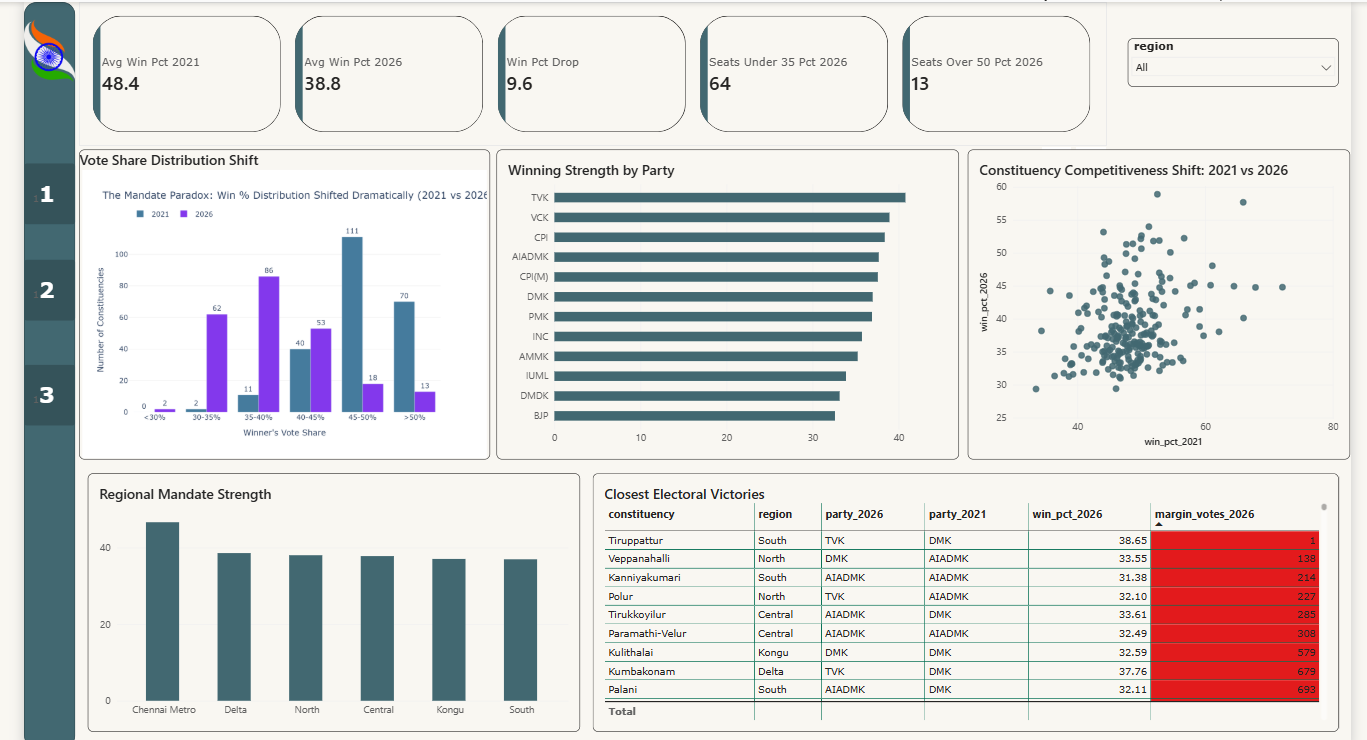

The page's visual inventory and layout, read from the dashboard file:
{"tool":"powerbi","page":{"name":"The Mandate Paradox","canvas":[1920,1080],"ordinal":2},"visuals":[{"type":"shape","box":[0,0,74.2,1080.4],"z":0,"group":"g4"},{"type":"cardVisual","fields":{"Data":["kpi_table.Avg Win Pct 2021","kpi_table.Avg Win Pct 2026","kpi_table.Win Pct Drop","kpi_table.Seats Under 35 Pct 2026","kpi_table.Seats Over 50 Pct 2026"]},"box":[79.6,0,1487.5,208.1],"z":0},{"type":"actionButton","title":"1","box":[0,233.4,74.2,88.7],"z":0,"group":"g1"},{"type":"actionButton","title":"1","box":[0,372.8,74.2,88.7],"z":0,"group":"g2"},{"type":"actionButton","title":"1","box":[0,524.8,74.2,88.7],"z":0,"group":"g3"},{"type":"slicer","fields":{"Values":["constituency_results.region"]},"box":[1597.9,52.5,305.8,70.6],"z":1000},{"type":"group","id":"g1","title":"Group 1","box":[0,233.4,74.2,88.7],"z":1000,"group":"g4"},{"type":"textbox","box":[12.7,256.9,39.8,41.6],"z":1000,"group":"g1"},{"type":"textbox","box":[12.7,396.3,39.8,41.6],"z":1000,"group":"g2"},{"type":"textbox","box":[12.7,548.3,39.8,41.6],"z":1000,"group":"g3"},{"type":"image","title":"Vote Share Distribution Shift","box":[79.6,213.5,595.4,448.8],"z":2000},{"type":"group","id":"g2","title":"Group 1","box":[0,372.8,74.2,88.7],"z":2000,"group":"g4"},{"type":"clusteredBarChart","title":"Winning Strength by Party","fields":{"Category":["constituency_results.party_2026"],"Y":["kpi_table.Avg Win Pct 2026"]},"box":[684.1,213.5,669.6,448.8],"z":3000},{"type":"group","id":"g3","title":"Group 1","box":[0,524.8,74.2,88.7],"z":3000,"group":"g4"},{"type":"clusteredColumnChart","title":"Regional Mandate Strength","fields":{"Category":["constituency_results.region"],"Y":["kpi_table.Avg Win Pct 2026"]},"box":[92.3,682.2,713,374.6],"z":4000},{"type":"scatterChart","title":"Constituency Competitiveness Shift: 2021 vs 2026","fields":{"X":["constituency_results.win_pct_2021"],"Y":["constituency_results.win_pct_2026"]},"box":[1366.3,213.5,553.8,448.8],"z":5000},{"type":"tableEx","title":"Closest Electoral Victories","fields":{"Values":["constituency_results.constituency","constituency_results.region","constituency_results.party_2026","constituency_results.party_2021","constituency_results.win_pct_2026","constituency_results.margin_votes_2026"]},"box":[823.4,682.2,1080.4,374.6],"z":6000},{"type":"group","id":"g4","title":"Group 2","box":[0,0,74.2,1080.4],"z":7000},{"type":"image","box":[0,23.5,74.2,94.1],"z":8000}]}

Visuals, with their boxes on the page's 1920x1080 design canvas (x1, y1, x2, y2). These are canvas units, not pixel positions in the 1367x740 screenshot, which may show the page scaled, cropped or inside an application window:
shape: {"x1": 0, "y1": 0, "x2": 74, "y2": 1080}
cardVisual - kpi_table.Avg Win Pct 2021 x kpi_table.Avg Win Pct 2026: {"x1": 80, "y1": 0, "x2": 1567, "y2": 208}
"1" actionButton: {"x1": 0, "y1": 233, "x2": 74, "y2": 322}
"1" actionButton: {"x1": 0, "y1": 373, "x2": 74, "y2": 462}
"1" actionButton: {"x1": 0, "y1": 525, "x2": 74, "y2": 614}
slicer - constituency_results.region: {"x1": 1598, "y1": 52, "x2": 1904, "y2": 123}
"Group 1" group: {"x1": 0, "y1": 233, "x2": 74, "y2": 322}
textbox: {"x1": 13, "y1": 257, "x2": 52, "y2": 298}
textbox: {"x1": 13, "y1": 396, "x2": 52, "y2": 438}
textbox: {"x1": 13, "y1": 548, "x2": 52, "y2": 590}
"Vote Share Distribution Shift" image: {"x1": 80, "y1": 214, "x2": 675, "y2": 662}
"Group 1" group: {"x1": 0, "y1": 373, "x2": 74, "y2": 462}
"Winning Strength by Party" clusteredBarChart: {"x1": 684, "y1": 214, "x2": 1354, "y2": 662}
"Group 1" group: {"x1": 0, "y1": 525, "x2": 74, "y2": 614}
"Regional Mandate Strength" clusteredColumnChart: {"x1": 92, "y1": 682, "x2": 805, "y2": 1057}
"Constituency Competitiveness Shift: 2021 vs 2026" scatterChart: {"x1": 1366, "y1": 214, "x2": 1920, "y2": 662}
"Closest Electoral Victories" tableEx: {"x1": 823, "y1": 682, "x2": 1904, "y2": 1057}
"Group 2" group: {"x1": 0, "y1": 0, "x2": 74, "y2": 1080}
image: {"x1": 0, "y1": 24, "x2": 74, "y2": 118}
